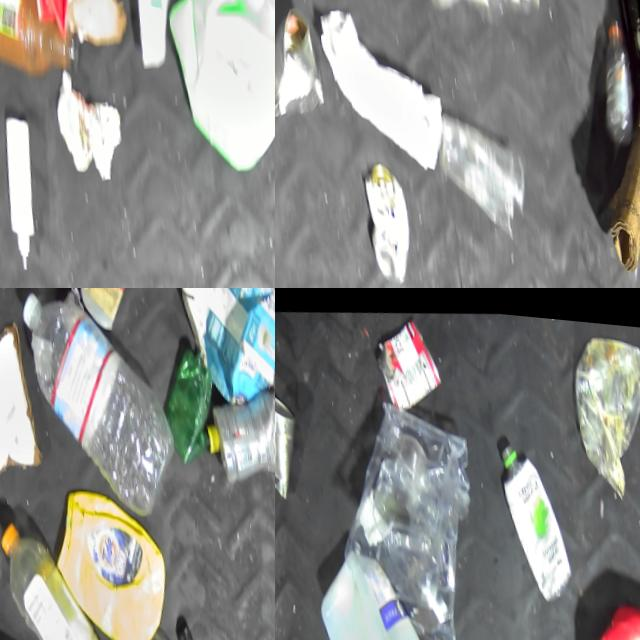can: (357, 149, 416, 284), (374, 309, 444, 411), (275, 0, 326, 121), (275, 389, 302, 499)
milk_jug: (156, 0, 275, 175), (311, 540, 453, 640)
non_white_jug: (45, 477, 173, 640), (173, 288, 275, 408)
plastic_bottle: (18, 288, 181, 523), (0, 511, 114, 640), (206, 373, 275, 478), (590, 6, 640, 139), (413, 0, 543, 28)
